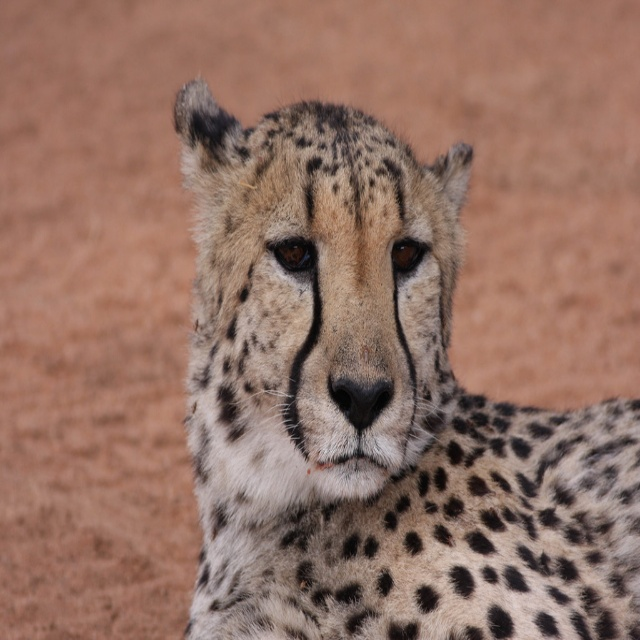Cheetah: (172, 74, 640, 639)
